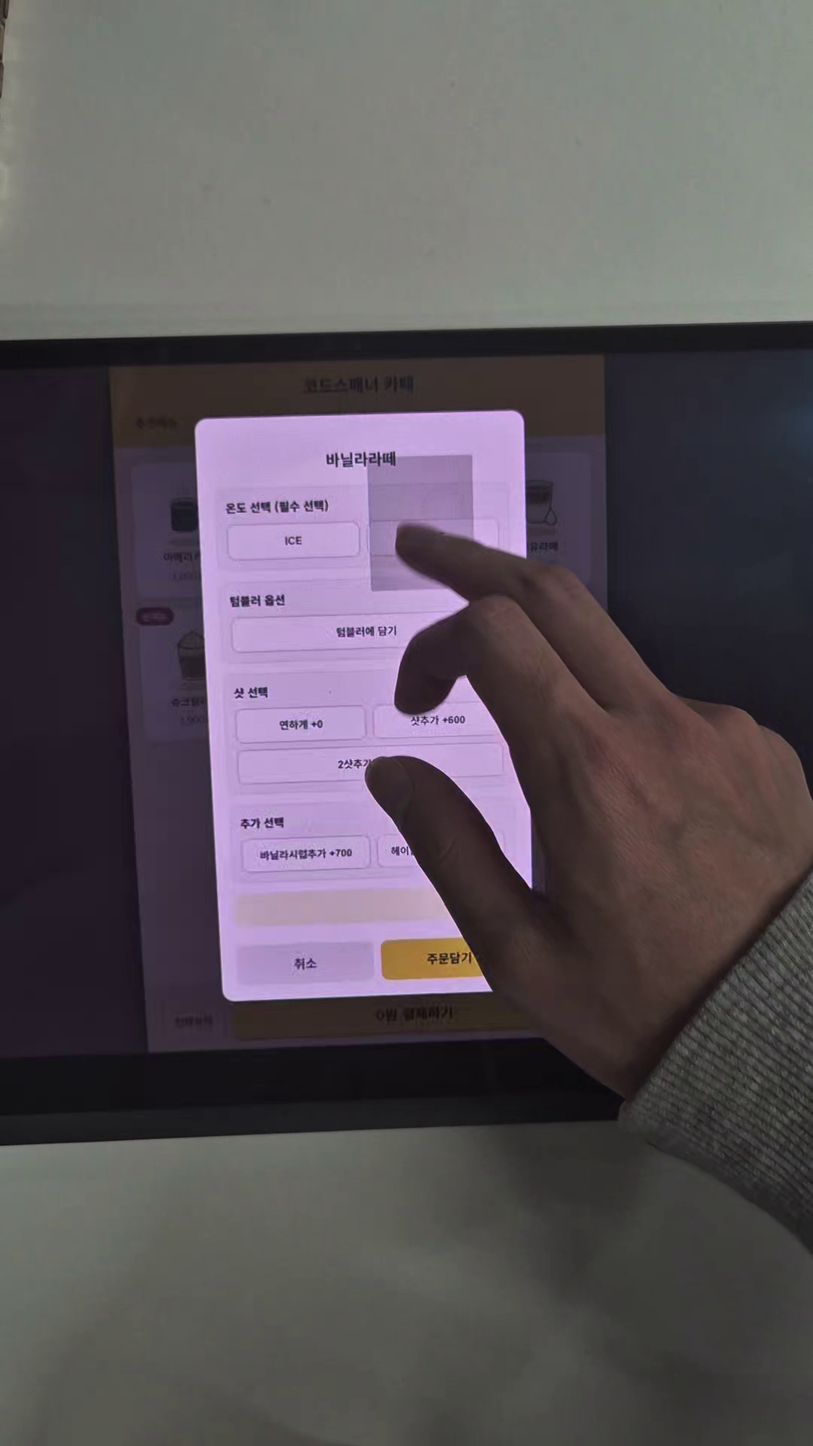action_button: (381, 936, 515, 982), (240, 941, 373, 987)
option_button: (238, 744, 503, 787), (234, 610, 499, 652), (242, 835, 373, 874), (228, 522, 359, 560), (368, 517, 499, 555), (235, 706, 366, 744), (374, 700, 505, 738)
popup_modal: (195, 410, 535, 1004)
